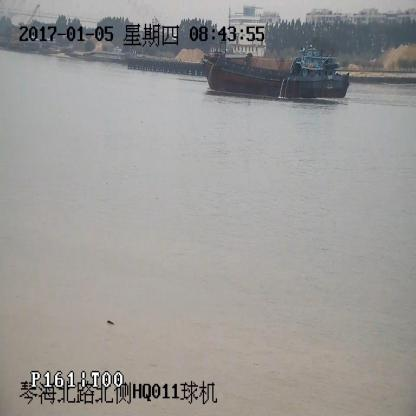Bulk Carrier: (202, 43, 349, 97)
